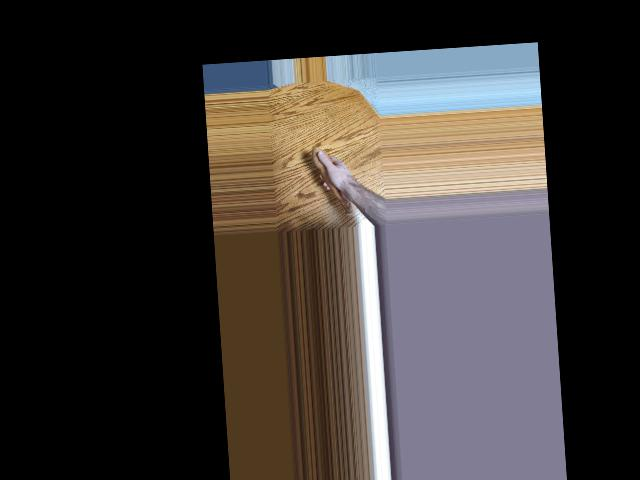sweet_potato: (309, 144, 355, 221)
